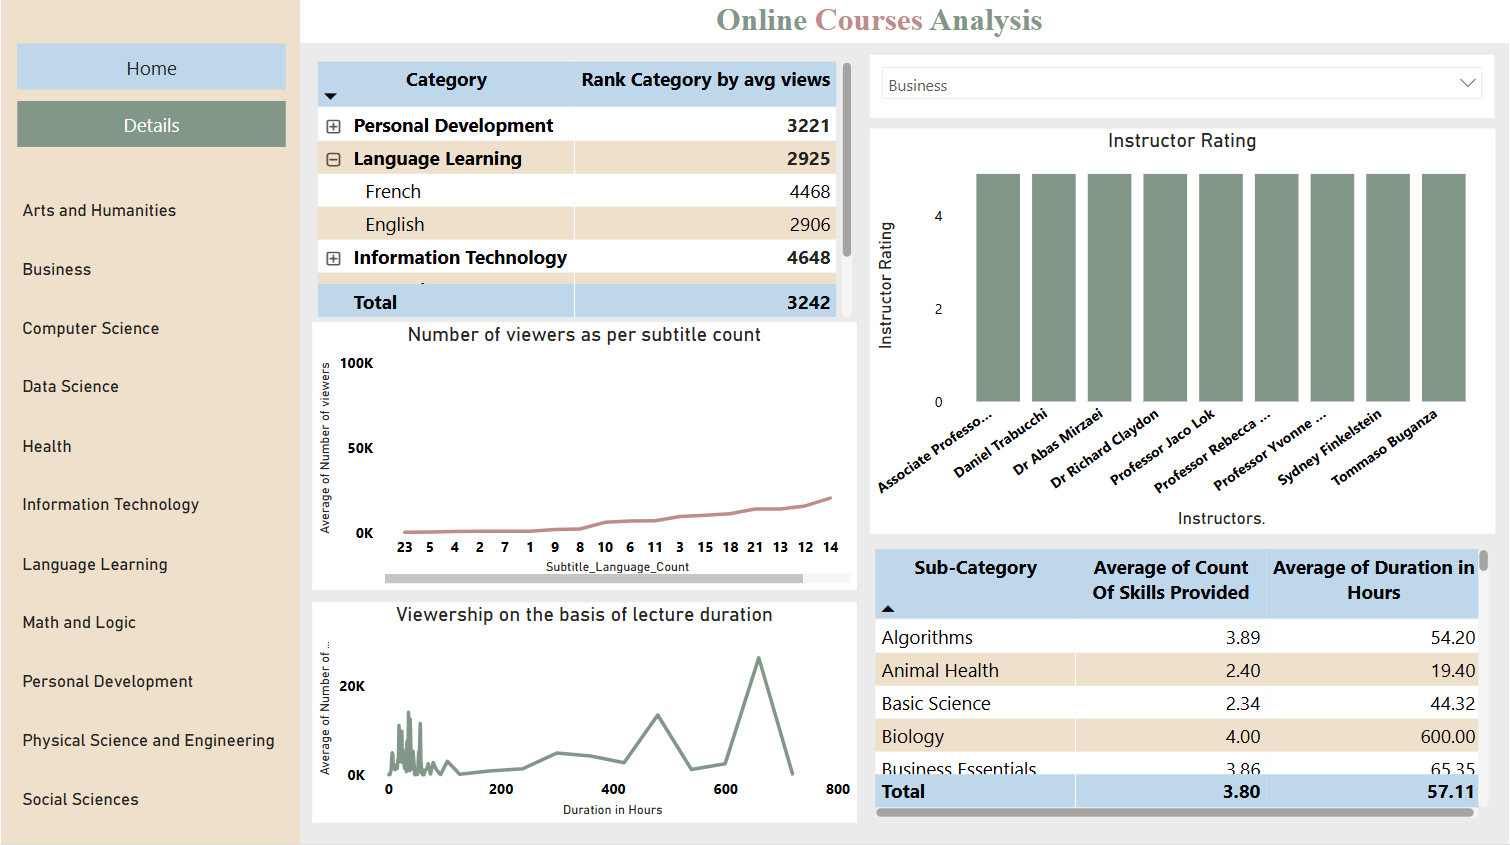

The page's visual inventory and layout, read from the dashboard file:
{"tool":"powerbi","page":{"name":"Details","canvas":[1280,720],"ordinal":1},"visuals":[{"type":"textbox","box":[0,0,1280,39.8],"z":0},{"type":"shape","box":[0,0,254,720.2],"z":1000},{"type":"advancedSlicerVisual","fields":{"Values":["Online_Courses.Category"]},"box":[0,154.4,254.6,557.4],"z":2000},{"type":"pivotTable","fields":{"Rows":["Online_Courses.Category","Online_Courses.Language"],"Values":["Online_Courses.Rank_catagory_by_avg_views"]},"box":[264.2,50.7,463.3,226.8],"z":3000},{"type":"lineChart","title":"Number of viewers as per subtitle count","fields":{"Category":["Online_Courses.Subtitle_Language_Count"],"Y":["Online_Courses.Number of viewers"]},"box":[264.2,277.5,462.1,226.8],"z":4000},{"type":"columnChart","title":"Instructor Rating","fields":{"Category":["Teachers.Instructors."],"Y":["Teachers.Instructor Rating"]},"box":[737.1,112.2,530.8,343.8],"z":5000},{"type":"slicer","fields":{"Values":["Teachers.Category"]},"box":[737.7,50.1,530.1,53.7],"z":6000},{"type":"lineChart","title":"Viewership on the basis of lecture duration","fields":{"Category":["Online_Courses.Duration in Hours"],"Y":["Online_Courses.Number of viewers"]},"box":[264.2,515.2,462.1,187],"z":7000},{"type":"pivotTable","fields":{"Rows":["Online_Courses.Sub-Category"],"Values":["Online_Courses.Count Of Skills Provided","Online_Courses.Duration in Hours"]},"box":[737.1,464.5,530.8,237.7],"z":8000},{"type":"pageNavigator","box":[13.3,39.8,228,89.3],"z":9000}]}

Visuals, with their boxes in screenshot pixels (x1, y1, x2, y2), scaled from the page's 1280x720 canvas onto the 1510x845 screenshot:
textbox: (x1=0, y1=0, x2=1509, y2=47)
shape: (x1=0, y1=0, x2=300, y2=844)
advancedSlicerVisual - Online_Courses.Category: (x1=0, y1=181, x2=300, y2=835)
pivotTable - Online_Courses.Category x Online_Courses.Language: (x1=312, y1=60, x2=858, y2=326)
"Number of viewers as per subtitle count" lineChart: (x1=312, y1=326, x2=857, y2=592)
"Instructor Rating" columnChart: (x1=870, y1=132, x2=1496, y2=535)
slicer - Teachers.Category: (x1=870, y1=59, x2=1496, y2=122)
"Viewership on the basis of lecture duration" lineChart: (x1=312, y1=605, x2=857, y2=824)
pivotTable - Online_Courses.Sub-Category x Online_Courses.Count Of Skills Provided: (x1=870, y1=545, x2=1496, y2=824)
pageNavigator: (x1=16, y1=47, x2=285, y2=152)
